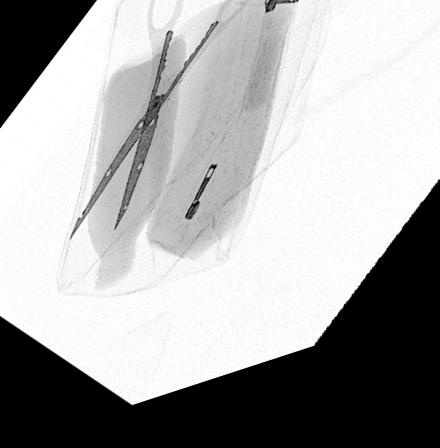Scissors: (66, 0, 264, 251)
